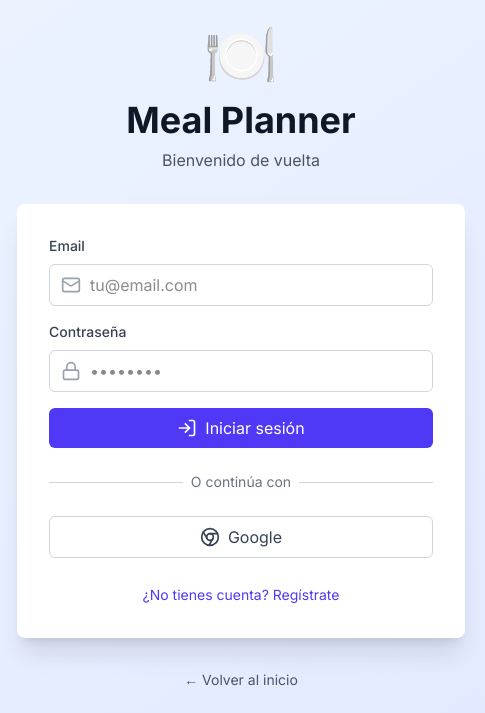
LoginPage Component › Sign Up Mode › toggles to sign up mode
Expected: the text "Bienvenido de vuelta" is shown, [162,150,320,170]
# Click toggle
What coordinates should you click on to do the following:
click the button "¿No tienes cuenta? Regístrate"
I would click on:
 (241, 595)
Its box is [142,585,339,605].
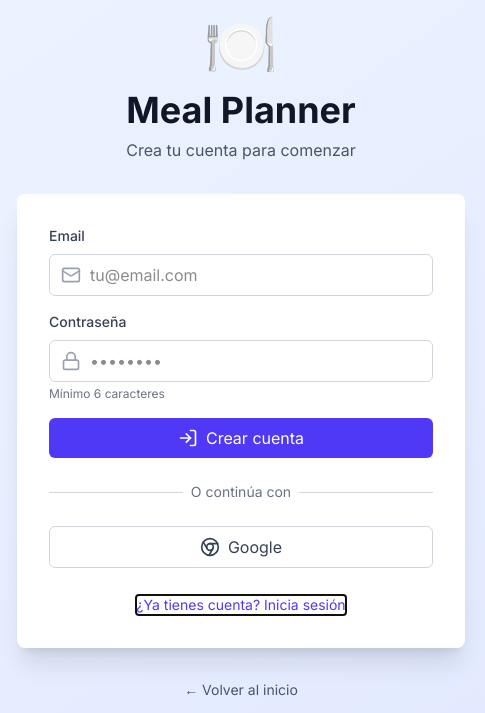
Expected: the text "Crea tu cuenta para comenzar" is shown, [126,140,356,160]
Expected: the button "Crear cuenta" is shown, [49,418,433,458]
Expected: the button "¿Ya tienes cuenta? Inicia sesión" is shown, [136,595,346,615]
